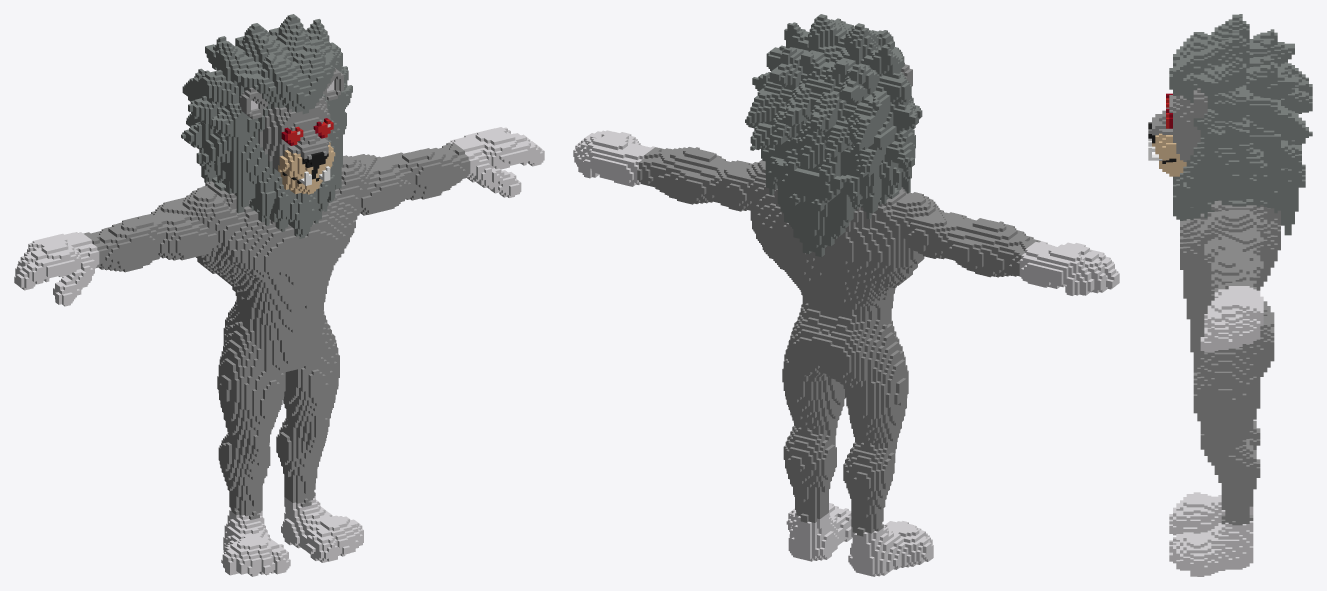
3 views of the same model, side by side, from view 1: azimuth 30°, elevation 25°; view 2: azimuth 150°, elevation 25°; view 3: azimuth 270°, elevation 25° (orthographic). The views are drawn at different scales.
Visible parts, largest first — view 1: ork; view 2: ork; view 3: ork.
Boxes of the visible parts, x1=… form: ork: x1=14, y1=14, x2=544, y2=576; ork: x1=573, y1=14, x2=1119, y2=576; ork: x1=1148, y1=14, x2=1312, y2=576.
Bounding box in the file's own units: 17.2 × 16.5 × 4.7.
4 materials, 4 textured.
